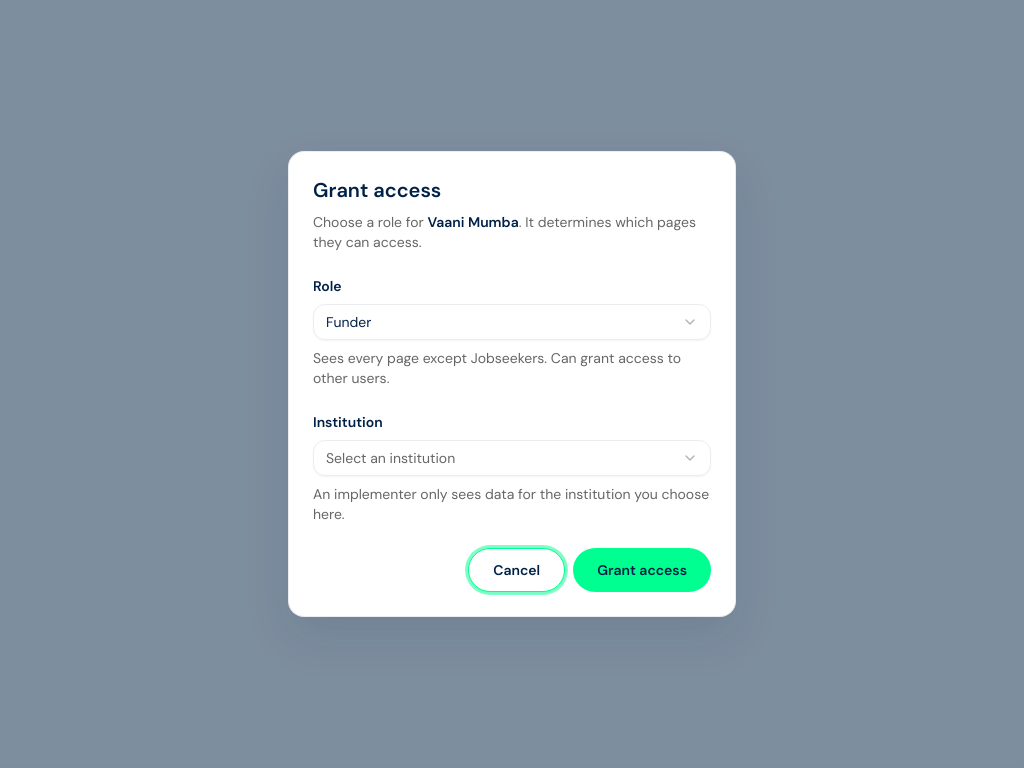
Test: ConfirmAccessDialog › should offer only the roles a funder may hand out
// WHEN the role control is opened
Click the dropdown labelled "Funder" at (349, 322), box [313,304,711,340]
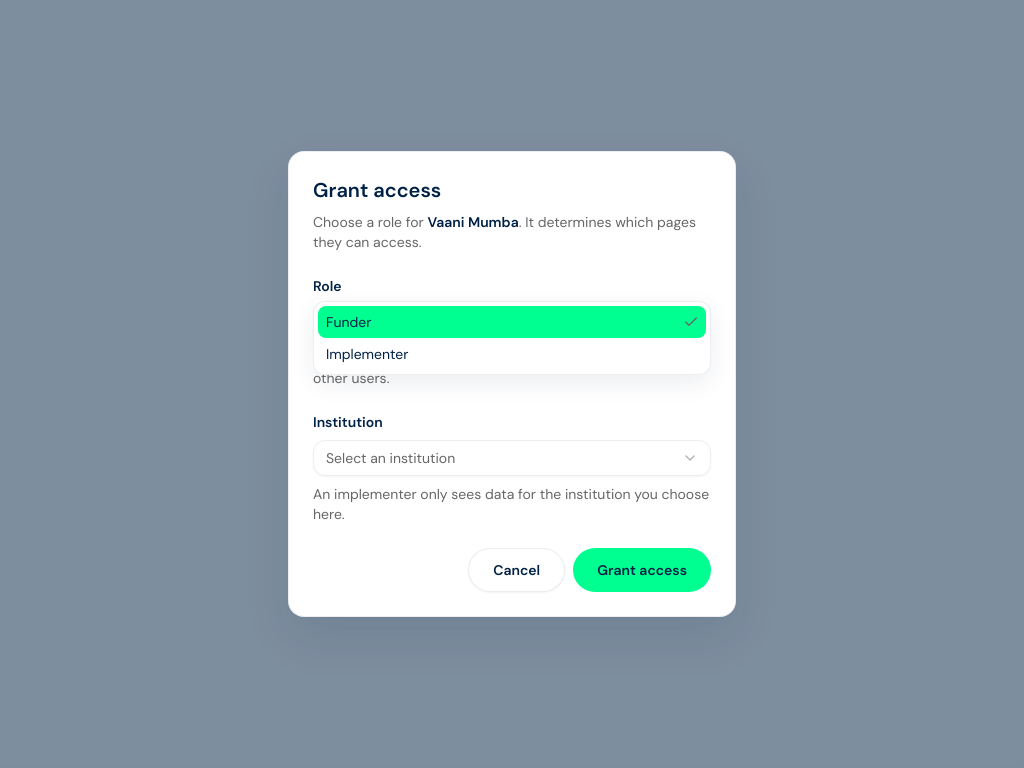
Expected: the options read "Funder", "Implementer", in this order, [318,306,706,338]; [326,345,408,363]
